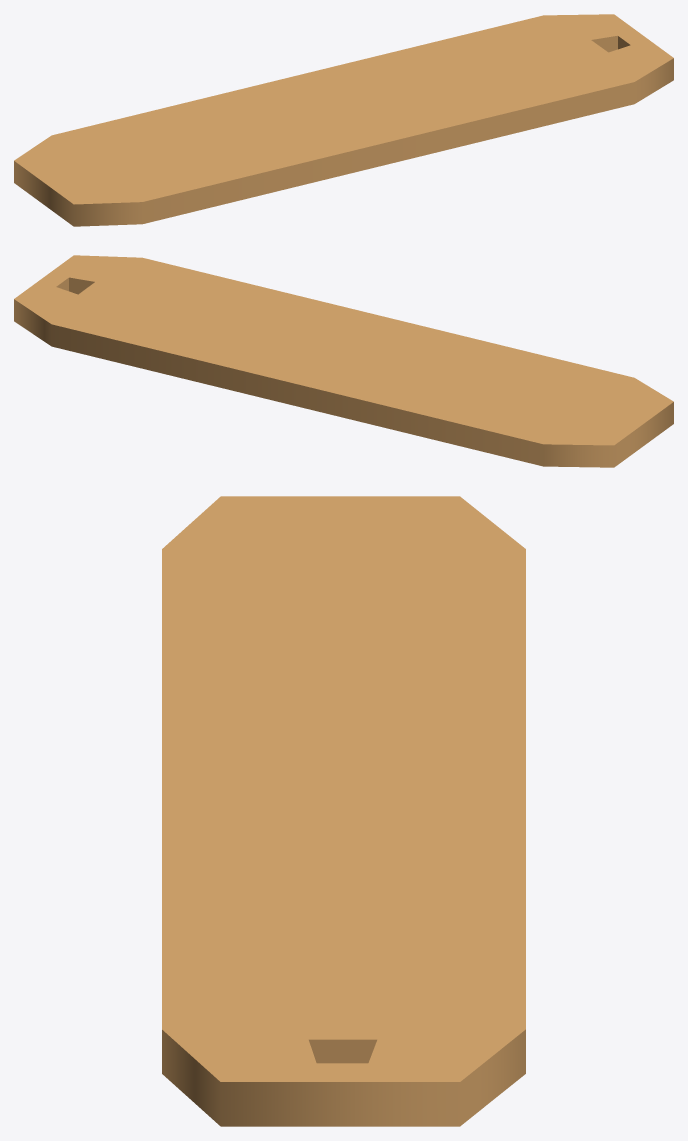
Rendered from SM_SM_PadLockKey_Tail.fbx.
3 renders of one model, top to bottom at view 1: azimuth 30°, elevation 25°; view 2: azimuth 150°, elevation 25°; view 3: azimuth 270°, elevation 25°, orthographic. The views are drawn at different scales.
Parts seen in each view (by area): view 1: SM_PadLockKey_Tail; view 2: SM_PadLockKey_Tail; view 3: SM_PadLockKey_Tail.
Boxes of the visible parts, <box> form: SM_PadLockKey_Tail: <box>14,14,673,226</box>; SM_PadLockKey_Tail: <box>14,255,673,467</box>; SM_PadLockKey_Tail: <box>162,496,525,1126</box>.
Size of the model in its own units: 24.01 by 0.8502 by 6.31.
